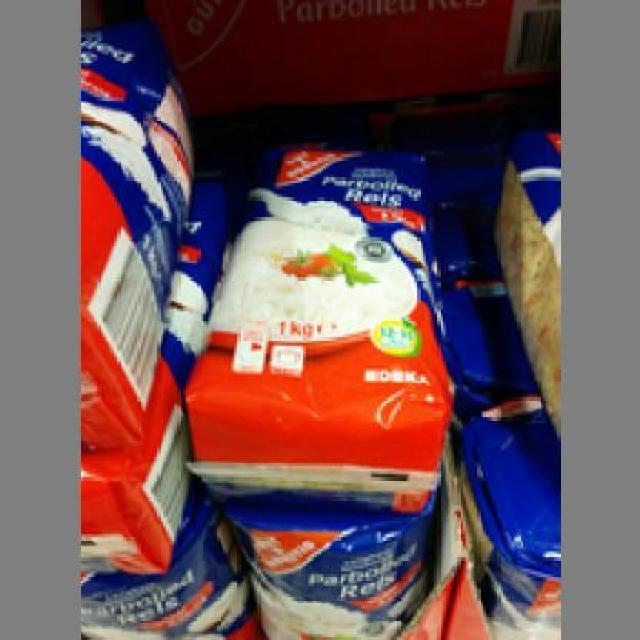Rice: (182, 142, 452, 508), (77, 17, 186, 443), (220, 494, 443, 634)
